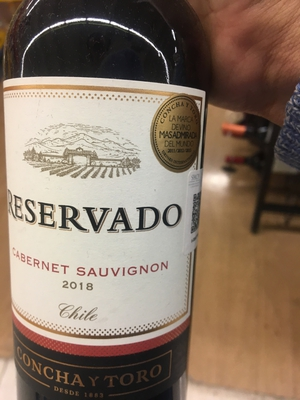reservado cabernet sauvignon: (5, 3, 207, 400)
